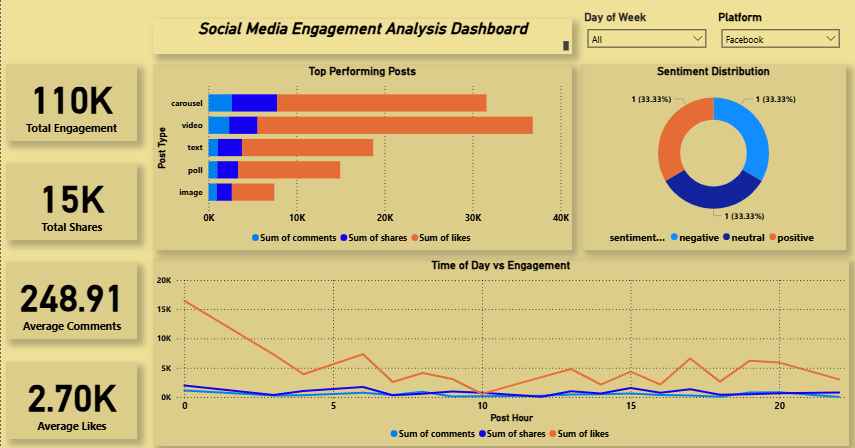

The dashboard page shown, as its layout file describes it:
{"tool":"powerbi","page":{"name":"Page 1","canvas":[1280,720],"ordinal":0},"visuals":[{"type":"card","fields":{"Values":["social_media_engagement1.Average Comments"]},"box":[6.8,442.7,196.4,115.1],"z":0},{"type":"card","fields":{"Values":["social_media_engagement1.Average Likes"]},"box":[6.8,590.9,196.4,115.1],"z":1000},{"type":"card","fields":{"Values":["social_media_engagement1.Total Shares"]},"box":[6.8,294.5,196.4,115.1],"z":2000},{"type":"lineChart","title":"Time of Day vs Engagement","fields":{"Category":["social_media_engagement1.Post_Hour"],"Y":["Sum(social_media_engagement1.comments)","Sum(social_media_engagement1.shares)","Sum(social_media_engagement1.likes)"]},"box":[226.9,436.8,1039.6,281.1],"z":3000},{"type":"donutChart","title":"Sentiment Distribution","fields":{"Y":["Count(social_media_engagement1.sentiment_score)"],"Category":["social_media_engagement1.sentiment_score"]},"box":[866.4,146.4,395.9,277.8],"z":4000},{"type":"barChart","title":"Top Performing Posts","fields":{"Category":["social_media_engagement1.post_type"],"Y":["Sum(social_media_engagement1.comments)","Sum(social_media_engagement1.shares)","Sum(social_media_engagement1.likes)"]},"box":[227.1,146.4,625.9,277.8],"z":5000},{"type":"slicer","title":"Platform","fields":{"Values":["social_media_engagement1.platform"]},"box":[1066.6,65.7,195.7,65.7],"z":6000},{"type":"slicer","title":"Day of Week","fields":{"Values":["social_media_engagement1.Day_of_Week"]},"box":[866.4,65.7,197.2,65.7],"z":7000},{"type":"card","fields":{"Values":["social_media_engagement1.Total Engagement"]},"box":[7.5,146.4,195.7,115],"z":8000},{"type":"textbox","title":"Social Media Engagement Analysis Dashboard","box":[227.1,79.2,625.9,52.3],"z":9000}]}

Visuals, with their boxes on the page's 1280x720 design canvas (x1, y1, x2, y2). These are canvas units, not pixel positions in the 855x448 screenshot, which may show the page scaled, cropped or inside an application window:
card - social_media_engagement1.Average Comments: pyautogui.locateOnScreen(7, 443, 203, 558)
card - social_media_engagement1.Average Likes: pyautogui.locateOnScreen(7, 591, 203, 706)
card - social_media_engagement1.Total Shares: pyautogui.locateOnScreen(7, 294, 203, 410)
"Time of Day vs Engagement" lineChart: pyautogui.locateOnScreen(227, 437, 1266, 718)
"Sentiment Distribution" donutChart: pyautogui.locateOnScreen(866, 146, 1262, 424)
"Top Performing Posts" barChart: pyautogui.locateOnScreen(227, 146, 853, 424)
"Platform" slicer: pyautogui.locateOnScreen(1067, 66, 1262, 131)
"Day of Week" slicer: pyautogui.locateOnScreen(866, 66, 1064, 131)
card - social_media_engagement1.Total Engagement: pyautogui.locateOnScreen(8, 146, 203, 261)
"Social Media Engagement Analysis Dashboard" textbox: pyautogui.locateOnScreen(227, 79, 853, 132)
